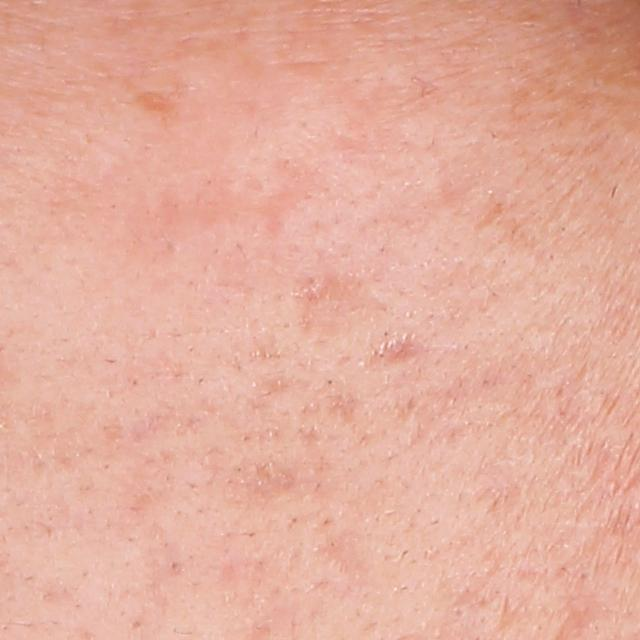atrophic_scar: (291, 269, 386, 343), (312, 530, 365, 585), (229, 462, 301, 494), (131, 82, 196, 114), (365, 332, 423, 364)
